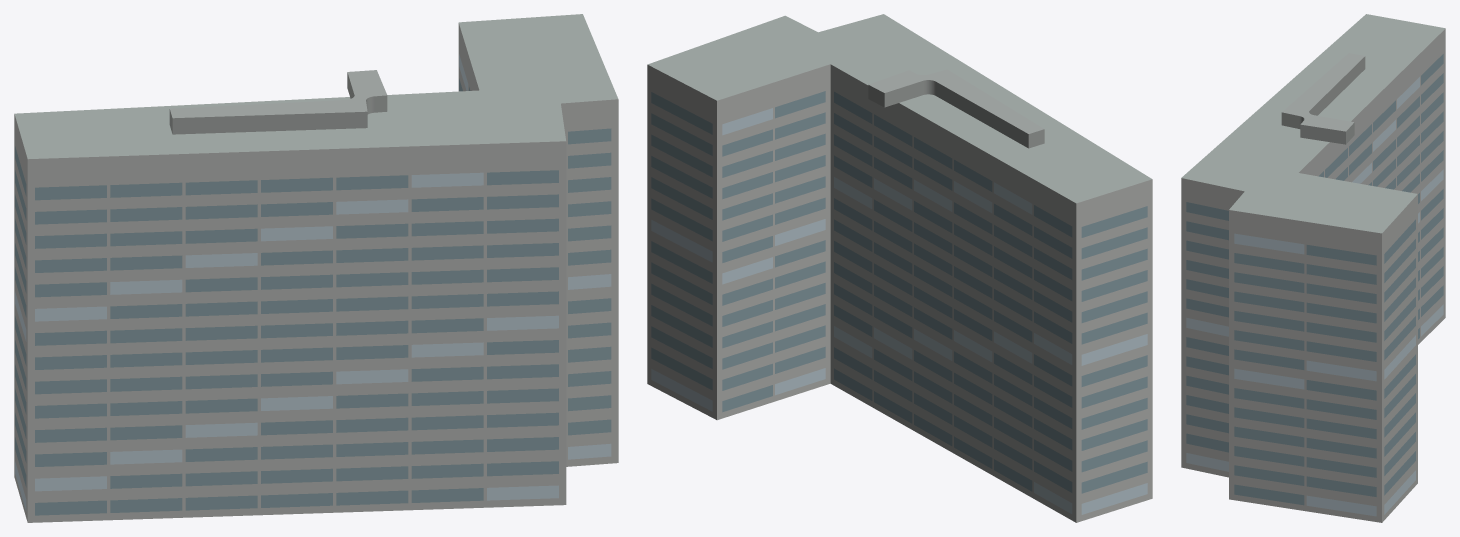
File: apt-a15209003.glb
3 renders of one model, left to right at view 1: azimuth 30°, elevation 25°; view 2: azimuth 150°, elevation 25°; view 3: azimuth 270°, elevation 25°, orthographic. The views are drawn at different scales.
Visible parts, largest first — view 1: apt-a15209003; view 2: apt-a15209003; view 3: apt-a15209003.
Part boxes in pixels (<box>): apt-a15209003: <box>14,14,618,522</box>; apt-a15209003: <box>647,14,1152,522</box>; apt-a15209003: <box>1181,14,1445,522</box>.
Size of the model in its own units: 74.38 by 47.81 by 37.9.
